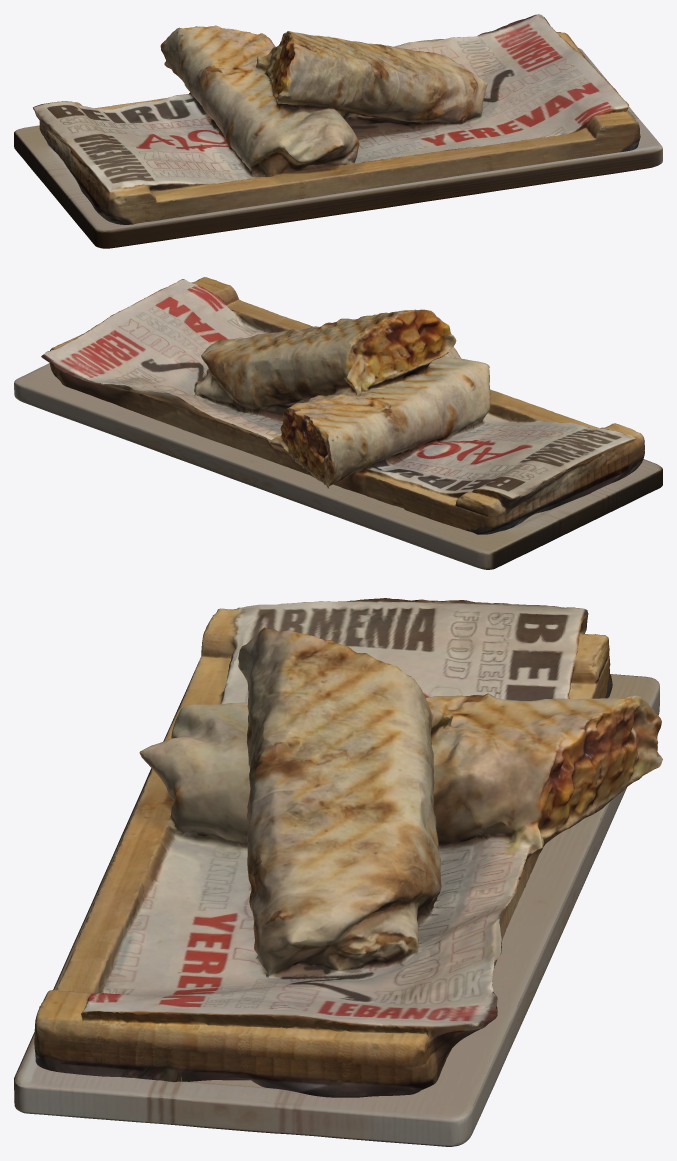
Rendered from sandvich.potato.glb.
3 renders of one model, top to bottom at view 1: azimuth 30°, elevation 25°; view 2: azimuth 150°, elevation 25°; view 3: azimuth 270°, elevation 25°, orthographic. The views are drawn at different scales.
Parts seen in each view (by area): view 1: /Root/Scenes/Scene/Object_38/Object_39/Submesh_0, /Root/Scenes/Scene/Object_38/Object_42/Object_43/Submesh_0; view 2: /Root/Scenes/Scene/Object_38/Object_39/Submesh_0, /Root/Scenes/Scene/Object_38/Object_42/Object_43/Submesh_0; view 3: /Root/Scenes/Scene/Object_38/Object_39/Submesh_0, /Root/Scenes/Scene/Object_38/Object_42/Object_43/Submesh_0.
Boxes of the visible parts, box(x1,y1,x2,y2) form: /Root/Scenes/Scene/Object_38/Object_39/Submesh_0: box(33, 14, 640, 224); /Root/Scenes/Scene/Object_38/Object_42/Object_43/Submesh_0: box(14, 48, 662, 248); /Root/Scenes/Scene/Object_38/Object_39/Submesh_0: box(41, 277, 644, 534); /Root/Scenes/Scene/Object_38/Object_42/Object_43/Submesh_0: box(14, 363, 662, 569); /Root/Scenes/Scene/Object_38/Object_39/Submesh_0: box(34, 598, 662, 1097); /Root/Scenes/Scene/Object_38/Object_42/Object_43/Submesh_0: box(14, 657, 659, 1146).
Bounding box in the file's own units: 0.3756 × 0.0852 × 0.2157.
Materials: 2 (2 with a texture image).
